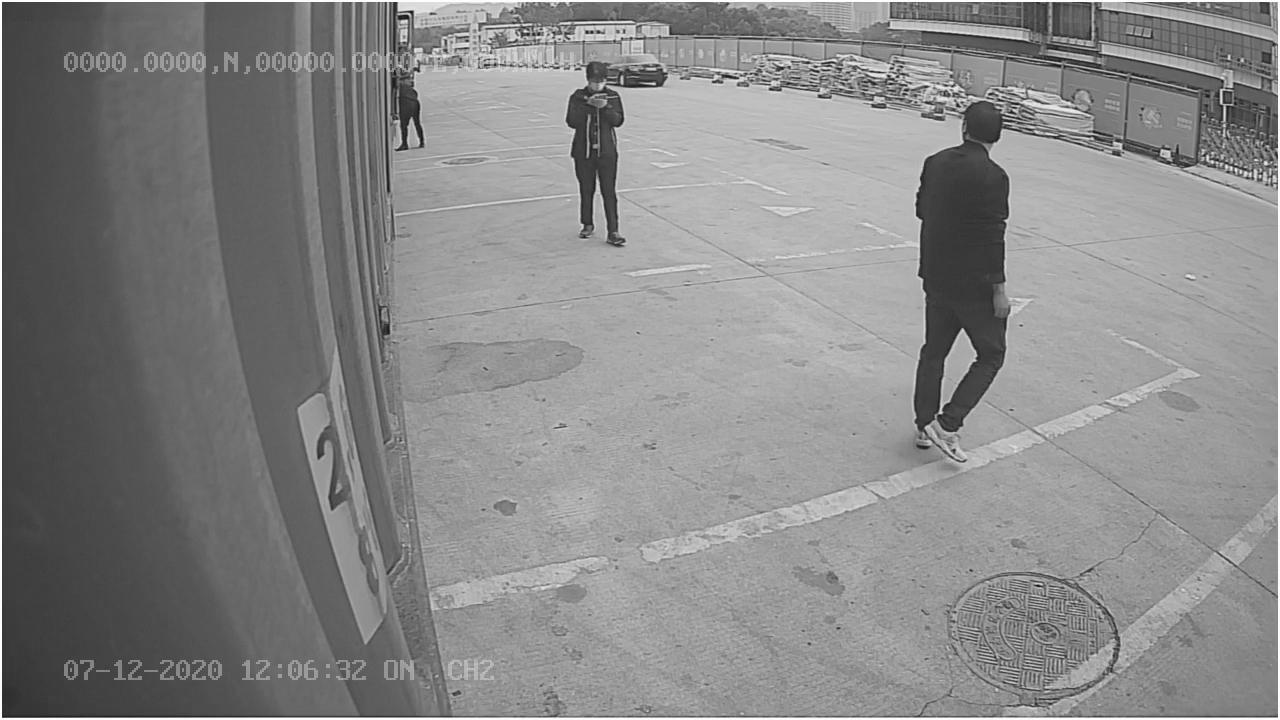person: (902, 99, 1011, 461)
